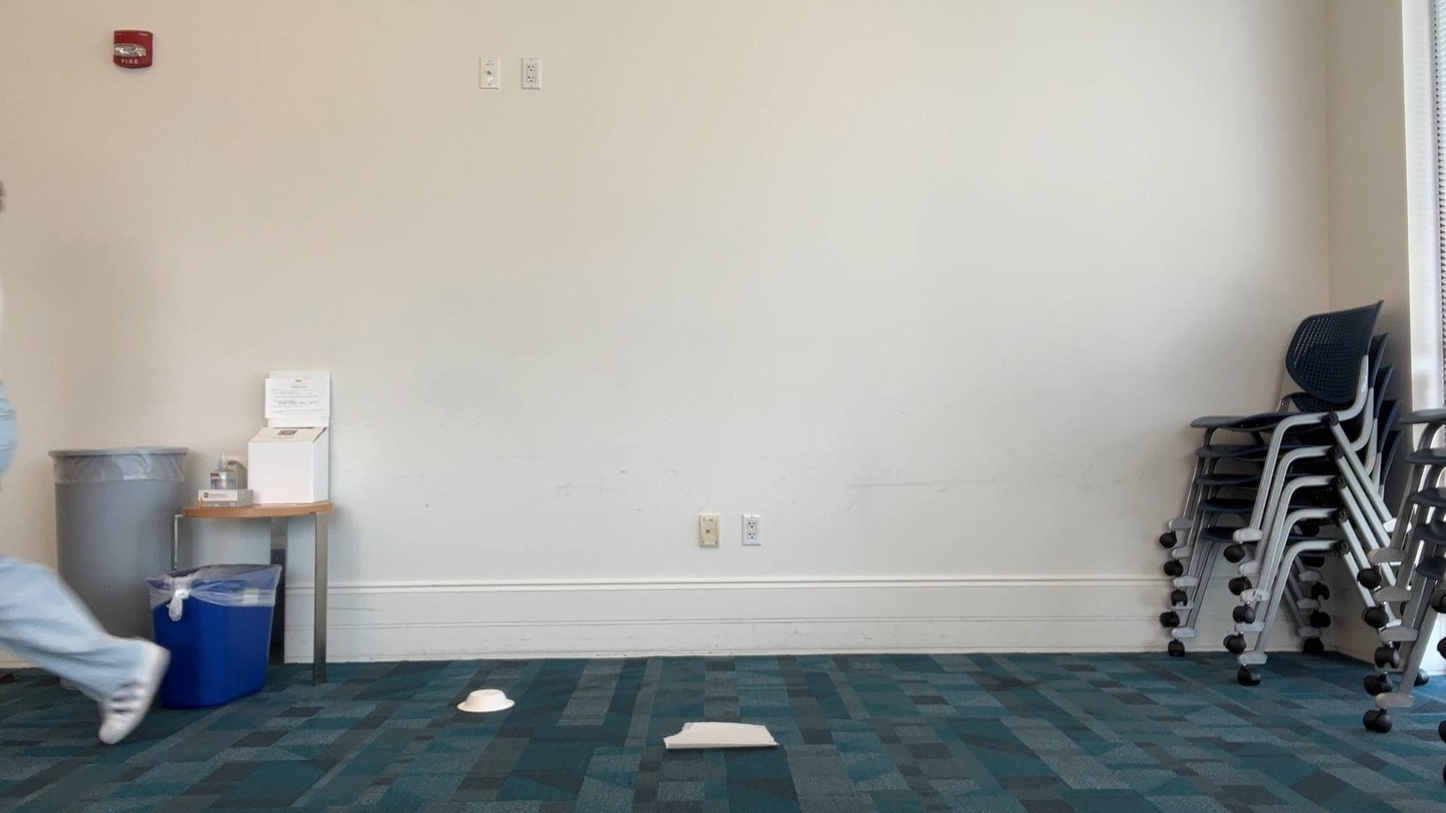Trash: (650, 699, 792, 764), (441, 667, 531, 730)
